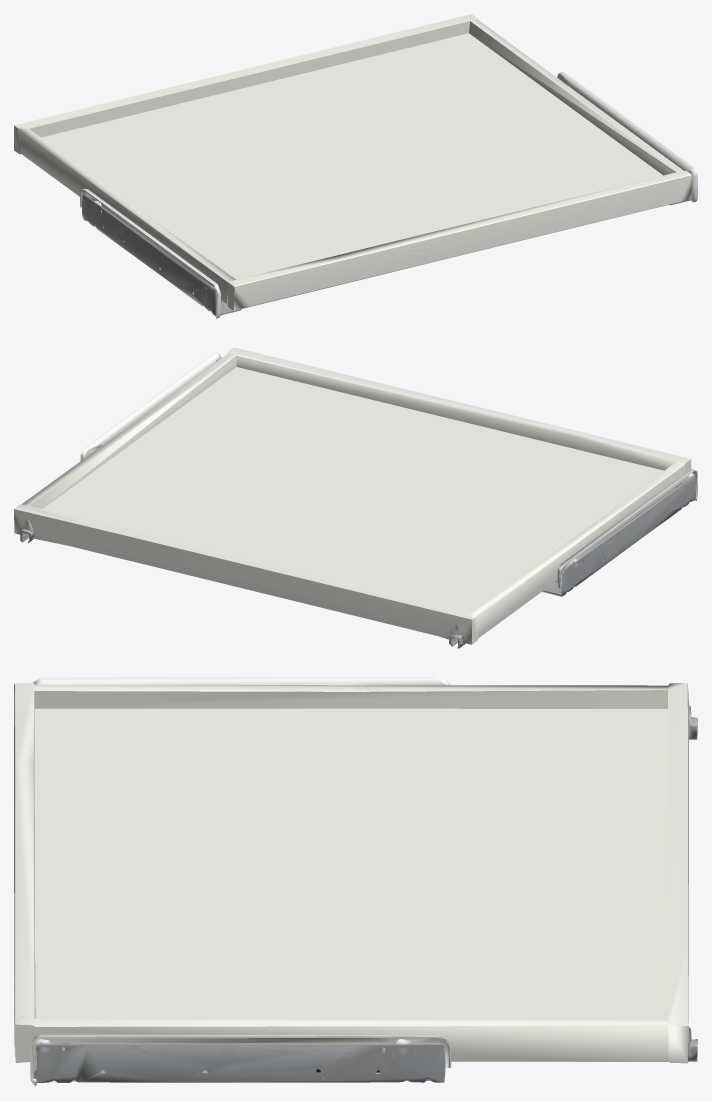
Rendered from 36 - KOMPLEMENT Pull-out tray - white 75x58 cm.glb.
The picture shows the model from 3 angles, top to bottom: view 1: azimuth 30°, elevation 25°; view 2: azimuth 150°, elevation 25°; view 3: azimuth 270°, elevation 25°; orthographic projection. The views are drawn at different scales.
Visible parts, largest first — view 1: ProcessedMeshNode; view 2: ProcessedMeshNode; view 3: ProcessedMeshNode.
Part boxes in pixels (x1=…): ProcessedMeshNode: x1=14, y1=14, x2=697, y2=318; ProcessedMeshNode: x1=14, y1=347, x2=697, y2=648; ProcessedMeshNode: x1=14, y1=677, x2=697, y2=1086.
Bounding box in the file's own units: 0.7112 × 0.0495 × 0.5716.
1 material, 1 textured.
